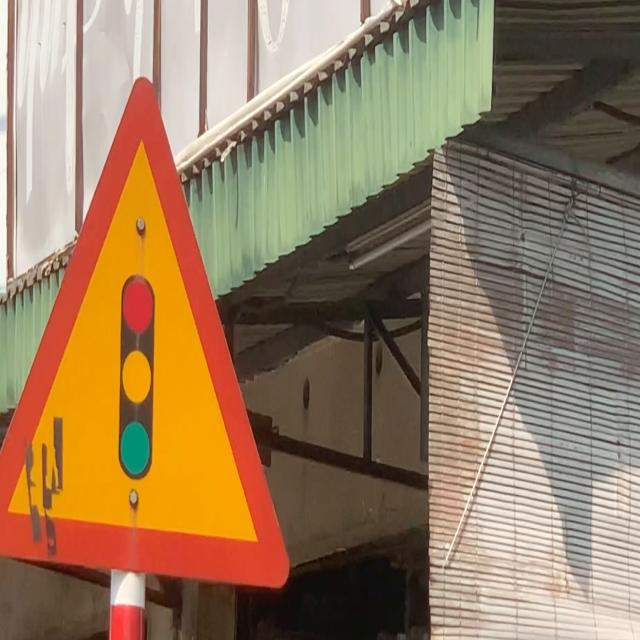Nguy hiem: (0, 51, 300, 608)
